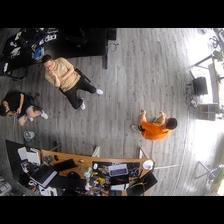normal: (42, 53, 104, 111), (1, 90, 49, 126), (131, 106, 178, 139)
